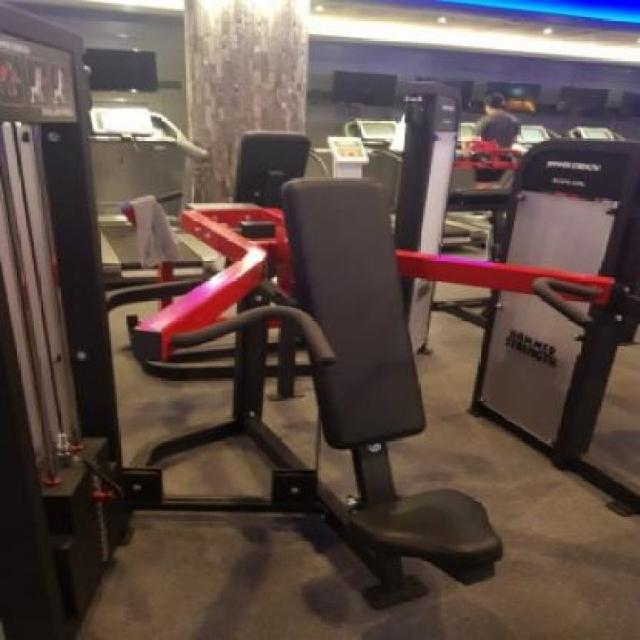shoulder press machine: (0, 4, 620, 640)
